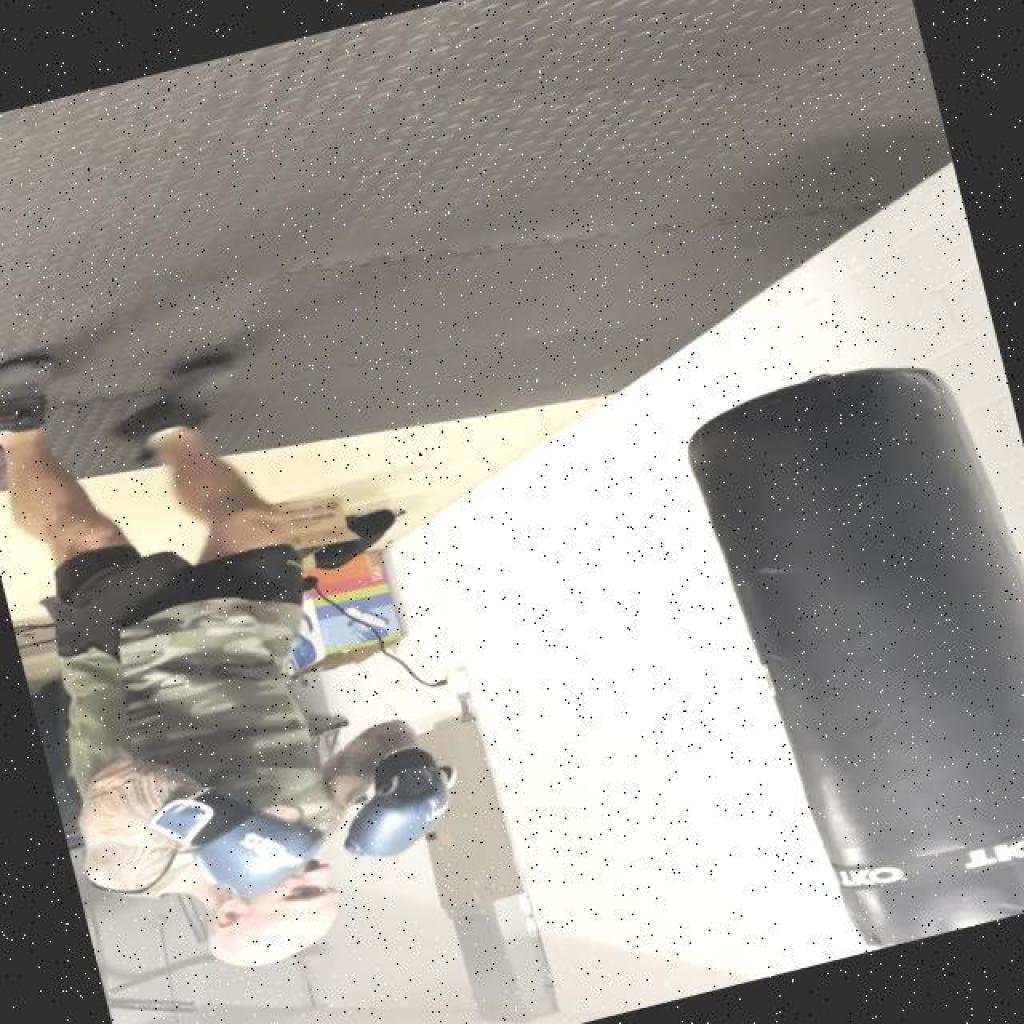bag: (693, 332, 1024, 962)
no punch: (54, 661, 532, 1016)
